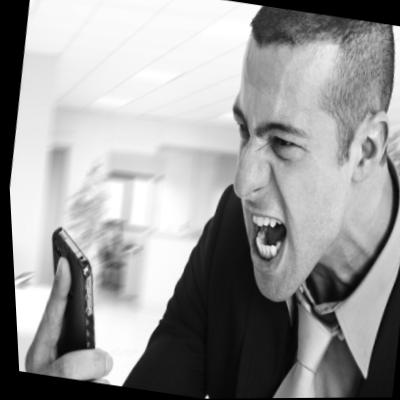angry: (203, 20, 373, 303)
